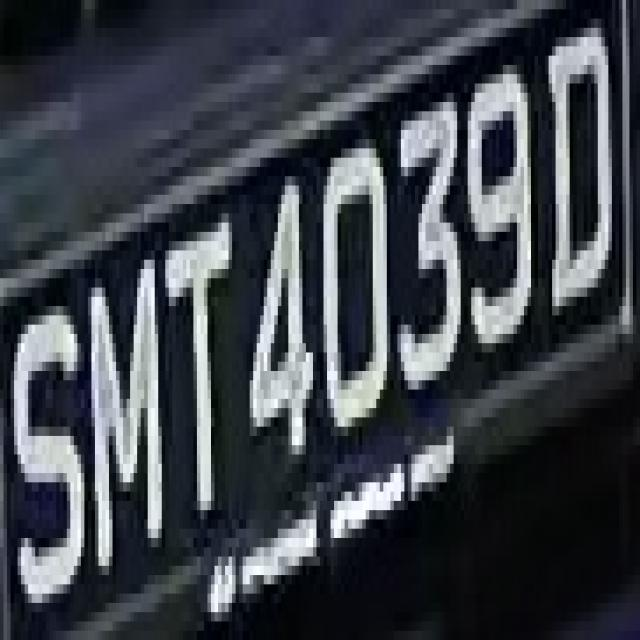0: (316, 121, 401, 473)
3: (380, 93, 475, 417)
4: (239, 158, 324, 482)
9: (464, 65, 549, 371)
D: (542, 9, 622, 325)
M: (70, 260, 172, 603)
S: (3, 278, 88, 622)
T: (148, 213, 242, 529)
